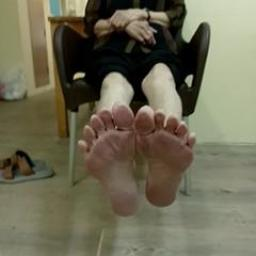Plantar View -Both Feet-: (62, 90, 213, 226)
